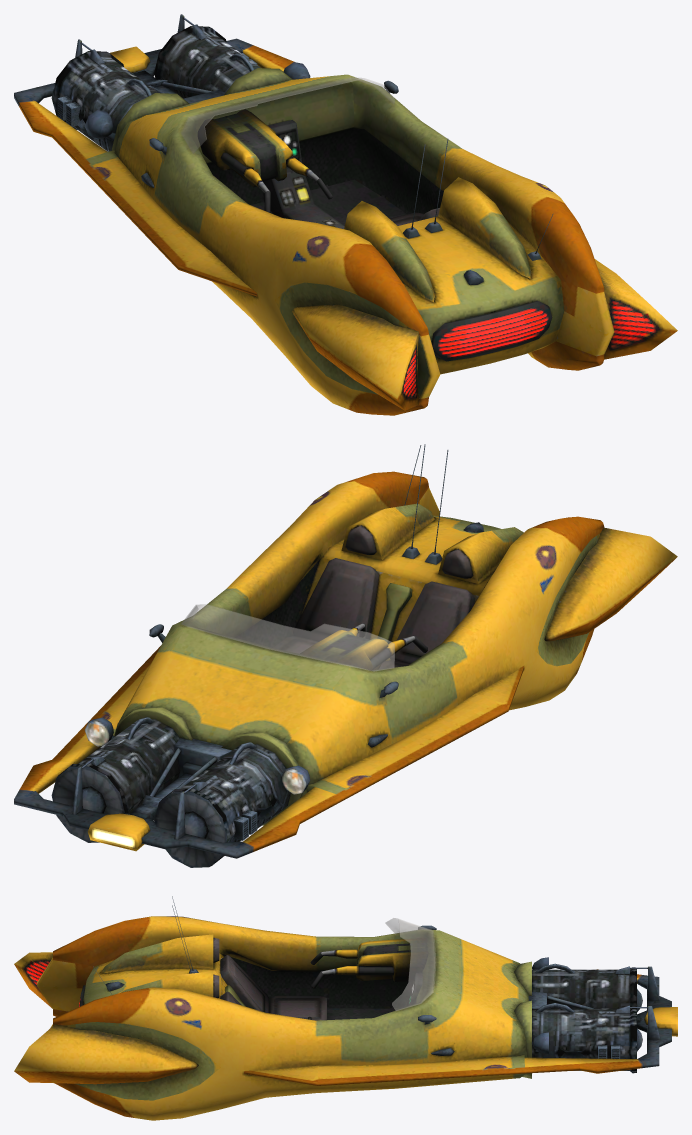
3 renders of one model, top to bottom at view 1: azimuth 30°, elevation 25°; view 2: azimuth 150°, elevation 25°; view 3: azimuth 270°, elevation 25°, orthographic. The views are drawn at different scales.
Parts seen in each view (by area): view 1: Object_2, Object_3; view 2: Object_2, Object_3; view 3: Object_2, Object_3.
Part boxes in pixels (left/top/right/bottom): Object_2: left=14, top=14, right=677, bottom=415; Object_3: left=181, top=77, right=394, bottom=153; Object_2: left=14, top=444, right=677, bottom=867; Object_3: left=181, top=604, right=394, bottom=671; Object_2: left=14, top=896, right=677, bottom=1120; Object_3: left=385, top=918, right=435, bottom=1010.
Bounding box in the file's own units: 2.54 × 1.7 × 5.66.
2 materials, 2 textured.
